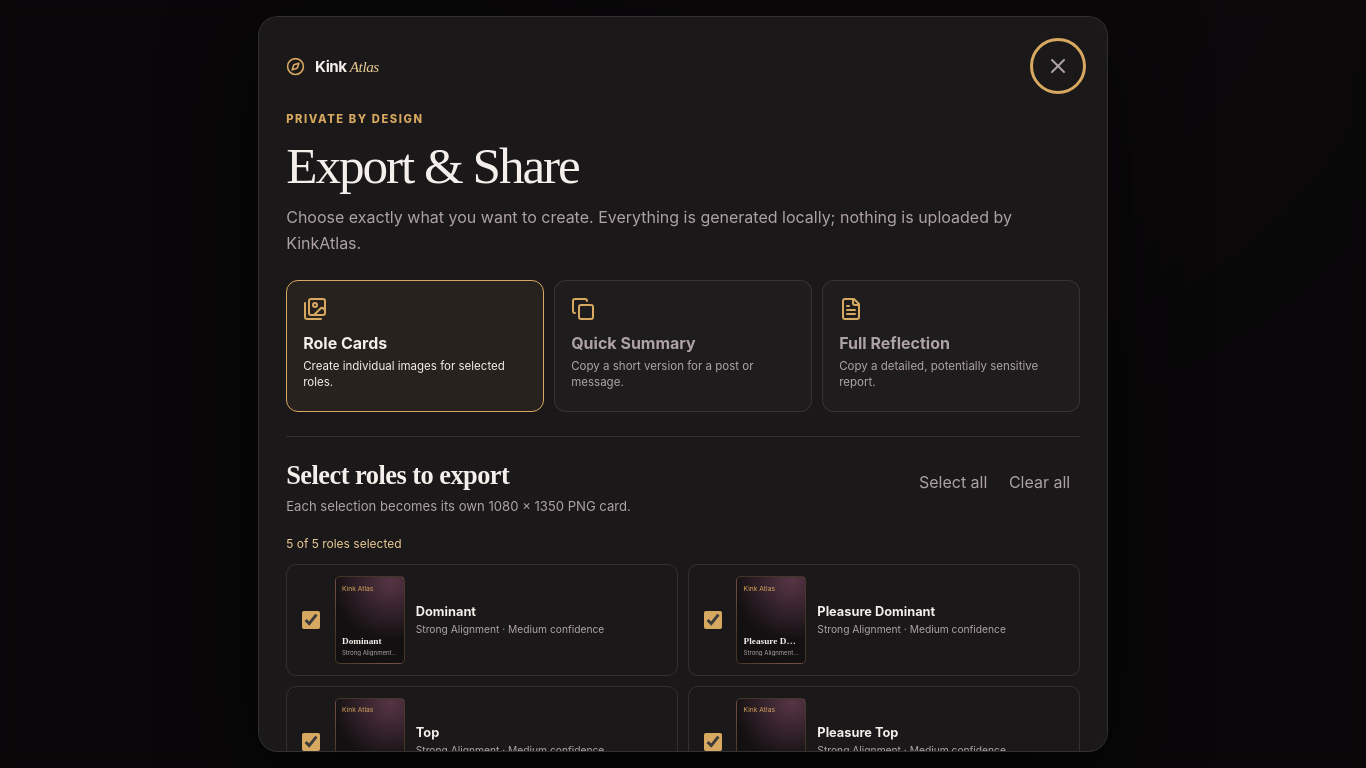
Test: Export & Share dialog › supports clear all, individual selection, and select all
Click the button "Clear all". click: point(1040, 482)
box: [999, 460, 1080, 504]
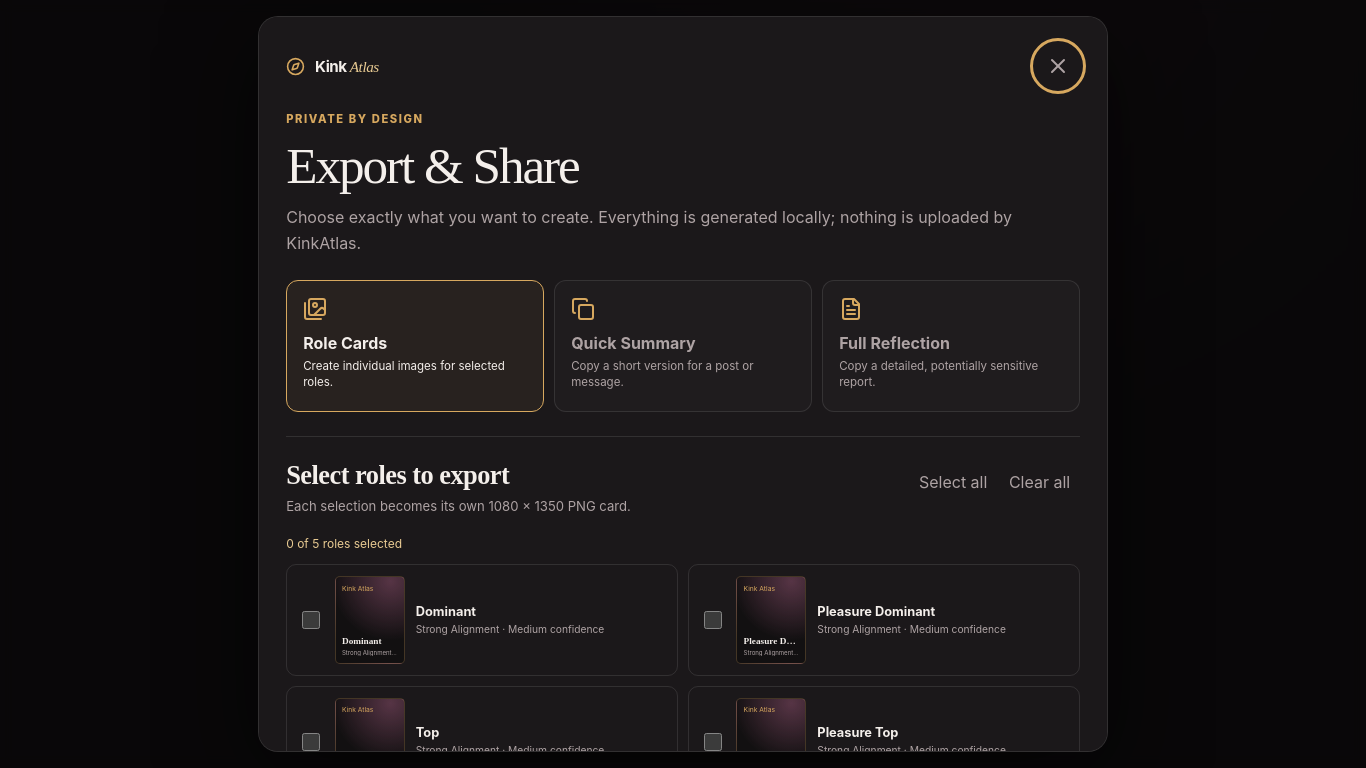
Expected: the text "0 of 5 roles selected" is shown, [286, 536, 402, 551]
Click the 1st checkbox. click: point(311, 620)
box: [302, 611, 320, 629]
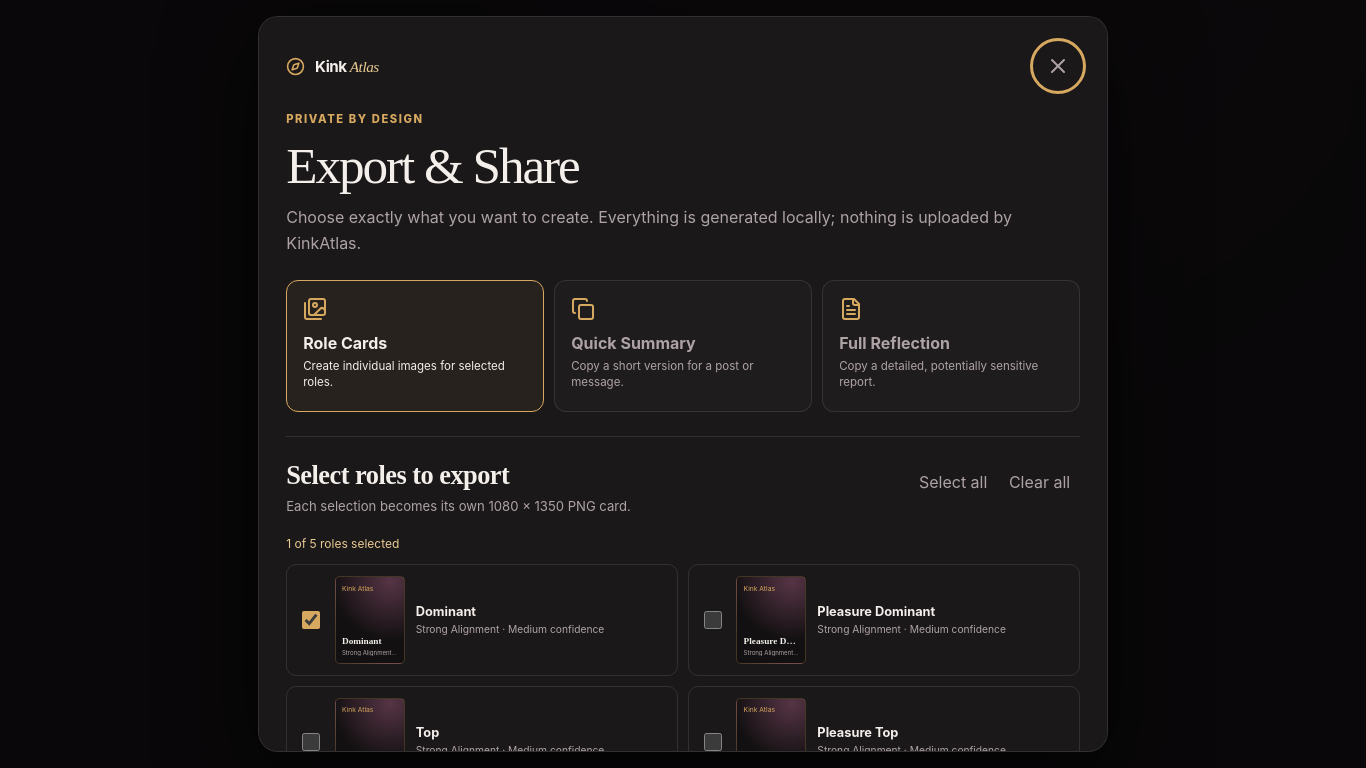
Expected: the text "1 of 5 roles selected" is shown, [286, 536, 399, 551]
Click the button "Select all". click: point(953, 482)
box: [909, 460, 997, 504]
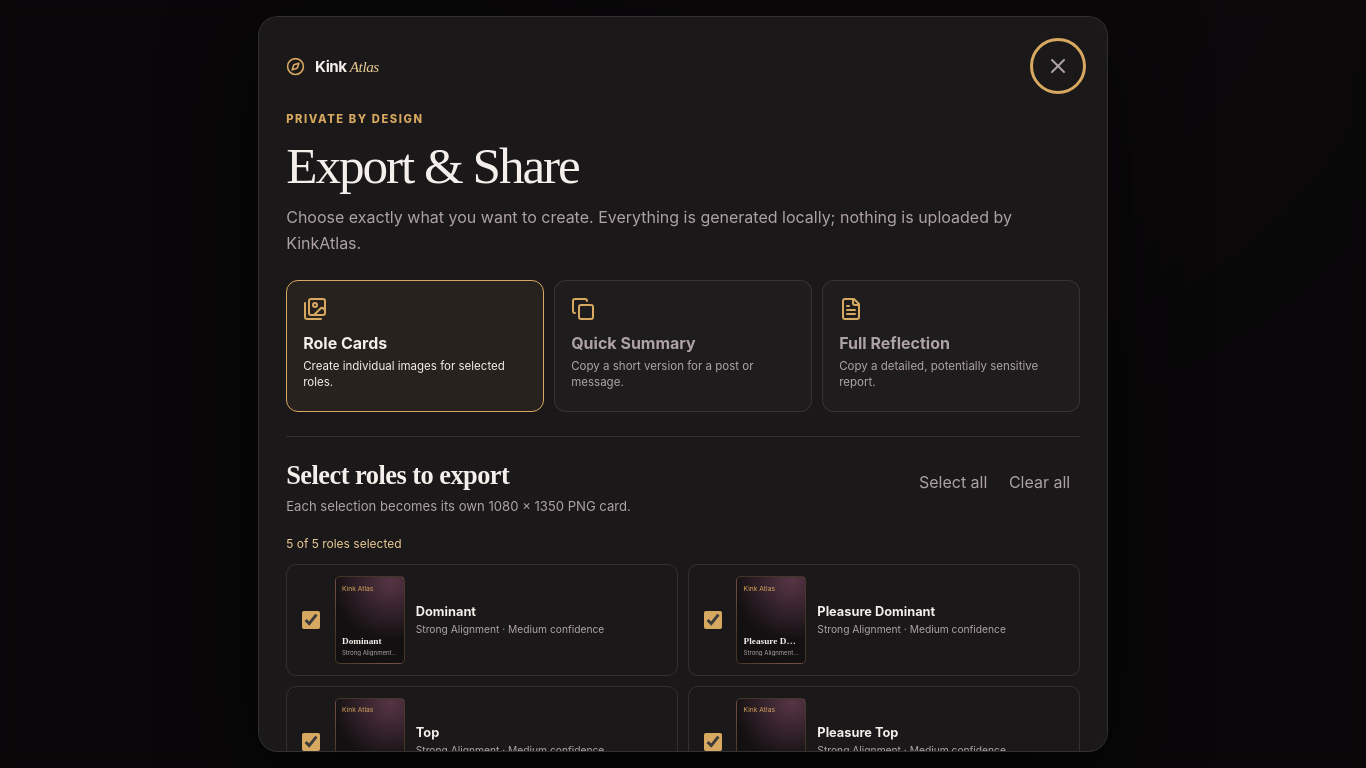
Expected: the text "5 of 5 roles selected" is shown, [286, 536, 402, 551]
